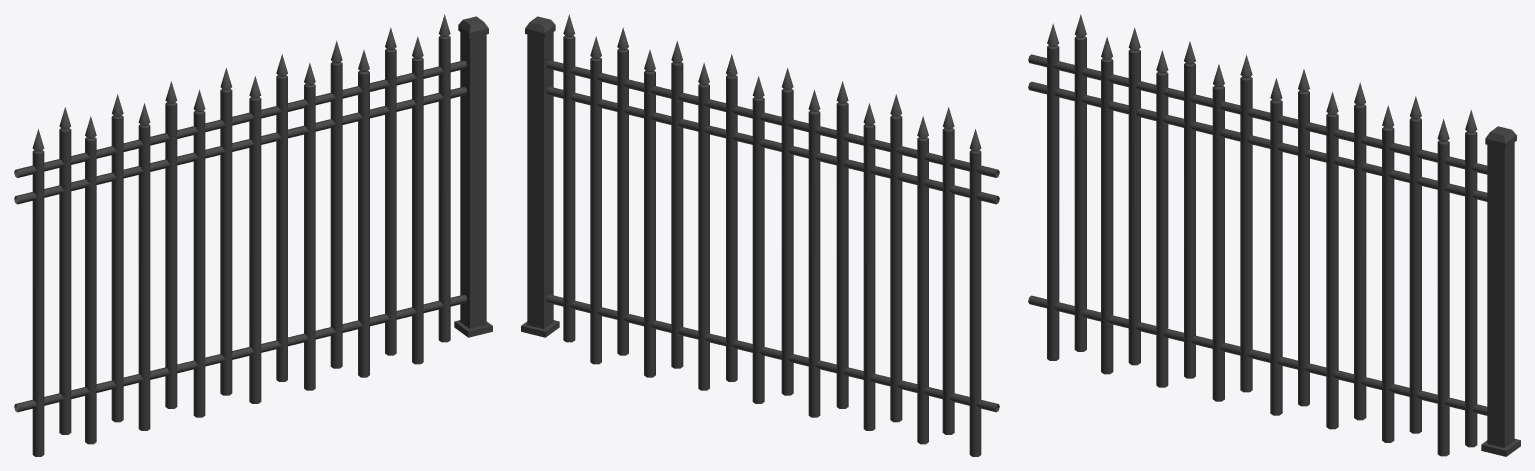
Rendered from cerca_nao_final.fbx.
3 renders of one model, left to right at view 1: azimuth 30°, elevation 25°; view 2: azimuth 150°, elevation 25°; view 3: azimuth 330°, elevation 25°, orthographic. The views are drawn at different scales.
Visible parts, largest first — view 1: pCube3; view 2: pCube3; view 3: pCube3.
Part boxes in pixels (box(x1,y1,x2,y2)): pCube3: box(14, 14, 492, 456); pCube3: box(521, 14, 999, 456); pCube3: box(1028, 14, 1520, 456).
Bounding box in the file's own units: 29.15 × 20.27 × 1.52.
